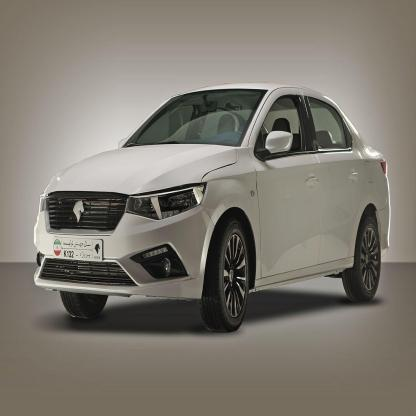Car: (35, 82, 391, 332)
